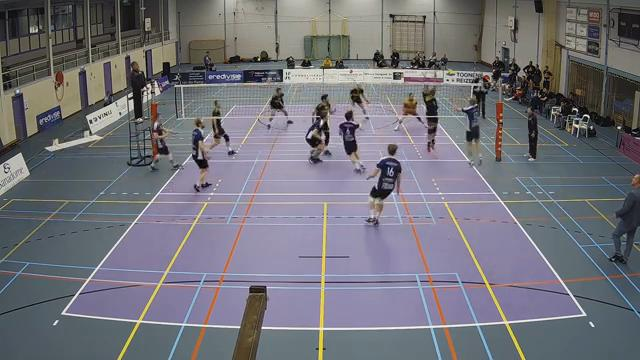Attack: (448, 91, 490, 173)
Block: (421, 68, 444, 159)
Player: (366, 144, 401, 225), (150, 114, 181, 170), (339, 110, 364, 173), (210, 101, 235, 155), (192, 118, 210, 191), (313, 94, 334, 155), (394, 94, 425, 130), (267, 88, 292, 128), (305, 118, 323, 163), (350, 85, 369, 119)
ball: (445, 66, 457, 77)
